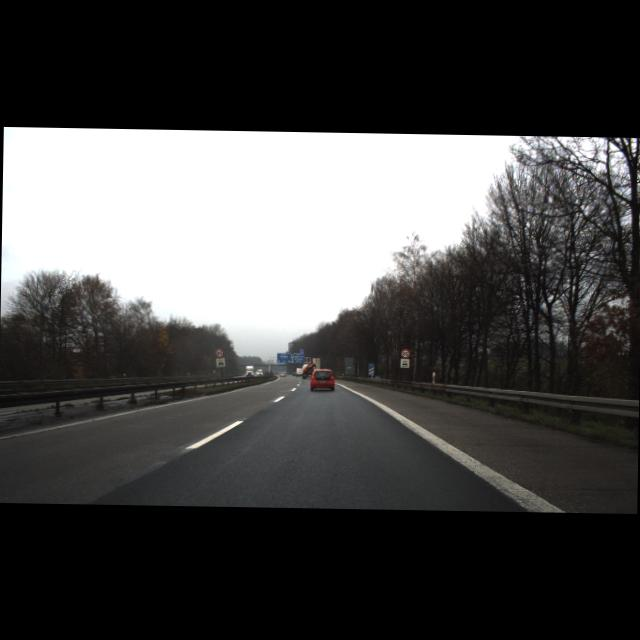prohibitory: (214, 347, 224, 357), (400, 348, 410, 358)
